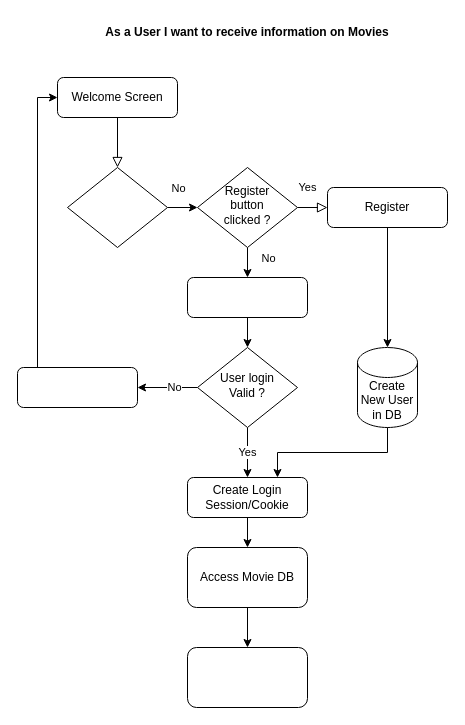
Some shapes in this 465 by 725 pixel diagram are drawn without their labels. Each missing label, with the centre of its shape:
"Error Message" belongs at point (77, 387).
"Login" belongs at point (247, 297).
"Show Movie Component" belongs at point (247, 677).
"User Logged In?" belongs at point (117, 207).
